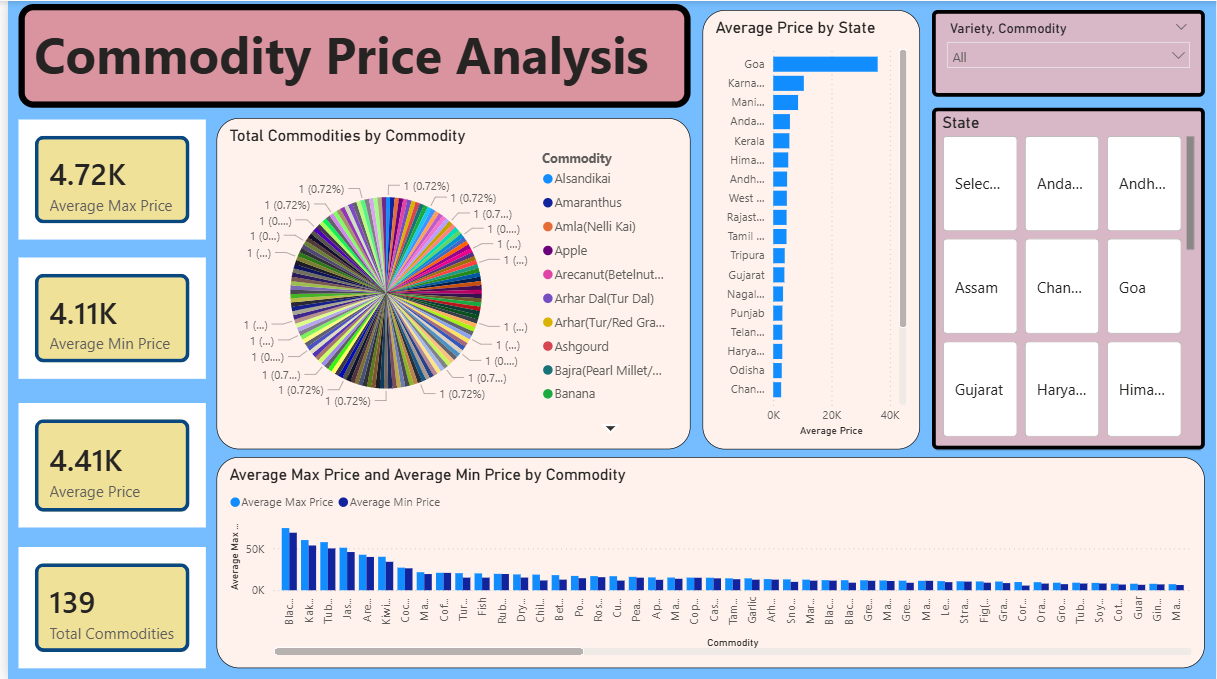

Layout of this report page (visuals, bound fields, positions):
{"tool":"powerbi","page":{"name":"Page 2","canvas":[1280,720],"ordinal":1},"visuals":[{"type":"cardVisual","fields":{"Data":["9ef84268-d588-465a-a308-a864a43d0070.Total Commodities"]},"box":[11.1,579,198.8,128.8],"z":0},{"type":"cardVisual","fields":{"Data":["9ef84268-d588-465a-a308-a864a43d0070.Average Price"]},"box":[11.1,426.3,198.8,132],"z":1000},{"type":"cardVisual","fields":{"Data":["9ef84268-d588-465a-a308-a864a43d0070.Average Min Price"]},"box":[11.1,272,198.8,128.8],"z":2000},{"type":"cardVisual","fields":{"Data":["9ef84268-d588-465a-a308-a864a43d0070.Average Max Price"]},"box":[11.1,125.7,198.8,127.2],"z":3000},{"type":"textbox","box":[11.1,3.2,712.6,109.8],"z":4000},{"type":"clusteredBarChart","fields":{"Y":["9ef84268-d588-465a-a308-a864a43d0070.Average Price"],"Category":["9ef84268-d588-465a-a308-a864a43d0070.State"]},"box":[736.5,9.5,230.6,466],"z":5000},{"type":"pieChart","fields":{"Category":["9ef84268-d588-465a-a308-a864a43d0070.Commodity"],"Y":["9ef84268-d588-465a-a308-a864a43d0070.Total Commodities"]},"box":[221.1,124.1,502.6,351.5],"z":6000},{"type":"clusteredColumnChart","fields":{"Category":["9ef84268-d588-465a-a308-a864a43d0070.Commodity"],"Y":["9ef84268-d588-465a-a308-a864a43d0070.Average Max Price","9ef84268-d588-465a-a308-a864a43d0070.Average Min Price"]},"box":[221.1,483.5,1048.2,224.3],"z":7001},{"type":"slicer","fields":{"Values":["9ef84268-d588-465a-a308-a864a43d0070.Variety","9ef84268-d588-465a-a308-a864a43d0070.Commodity"]},"box":[979.8,9.5,289.5,92.3],"z":7002},{"type":"advancedSlicerVisual","fields":{"Values":["9ef84268-d588-465a-a308-a864a43d0070.State"]},"box":[979.8,112.9,289.5,362.7],"z":7003}]}

Visuals, with their boxes in screenshot pixels (x1, y1, x2, y2), scaled from the page's 1280x720 canvas onto the 1217x679 screenshot:
cardVisual - 9ef84268-d588-465a-a308-a864a43d0070.Total Commodities: [left=11, top=546, right=200, bottom=667]
cardVisual - 9ef84268-d588-465a-a308-a864a43d0070.Average Price: [left=11, top=402, right=200, bottom=527]
cardVisual - 9ef84268-d588-465a-a308-a864a43d0070.Average Min Price: [left=11, top=257, right=200, bottom=378]
cardVisual - 9ef84268-d588-465a-a308-a864a43d0070.Average Max Price: [left=11, top=119, right=200, bottom=238]
textbox: [left=11, top=3, right=688, bottom=107]
clusteredBarChart - 9ef84268-d588-465a-a308-a864a43d0070.Average Price x 9ef84268-d588-465a-a308-a864a43d0070.State: [left=700, top=9, right=920, bottom=448]
pieChart - 9ef84268-d588-465a-a308-a864a43d0070.Commodity x 9ef84268-d588-465a-a308-a864a43d0070.Total Commodities: [left=210, top=117, right=688, bottom=449]
clusteredColumnChart - 9ef84268-d588-465a-a308-a864a43d0070.Commodity x 9ef84268-d588-465a-a308-a864a43d0070.Average Max Price: [left=210, top=456, right=1207, bottom=667]
slicer - 9ef84268-d588-465a-a308-a864a43d0070.Variety x 9ef84268-d588-465a-a308-a864a43d0070.Commodity: [left=932, top=9, right=1207, bottom=96]
advancedSlicerVisual - 9ef84268-d588-465a-a308-a864a43d0070.State: [left=932, top=106, right=1207, bottom=449]
